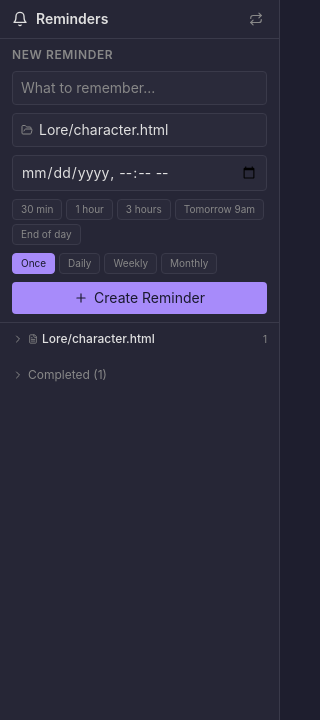
Test: ReminderSidebar › shows form validation error when title is missing
The width and height of the screenshot is (320, 720).
Click the button "Create Reminder": point(140, 298) [12,282,267,314]
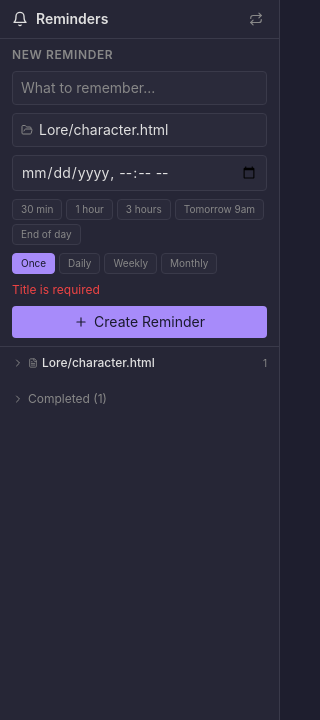
Expected: the text "Title is required" is shown, [12,282,100,297]
